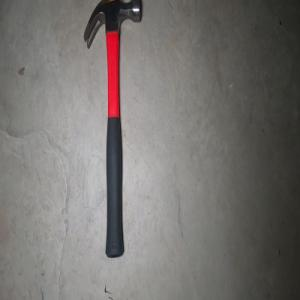Hammer: (82, 0, 142, 258)
